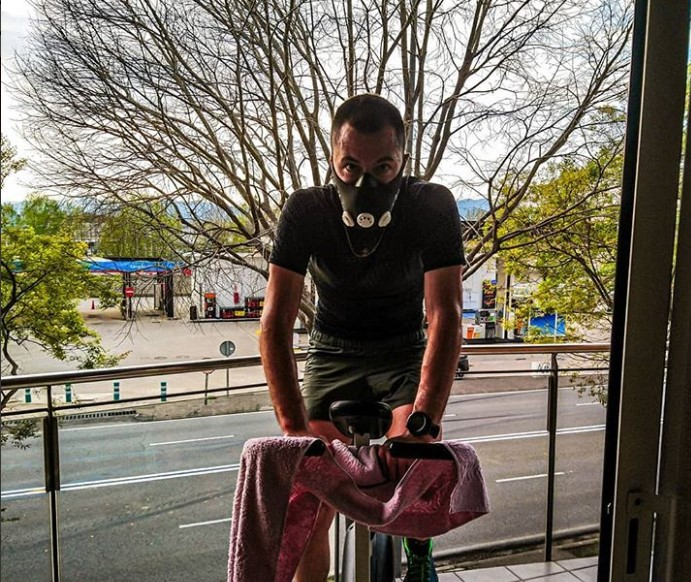face_with_mask: (327, 94, 410, 233)
